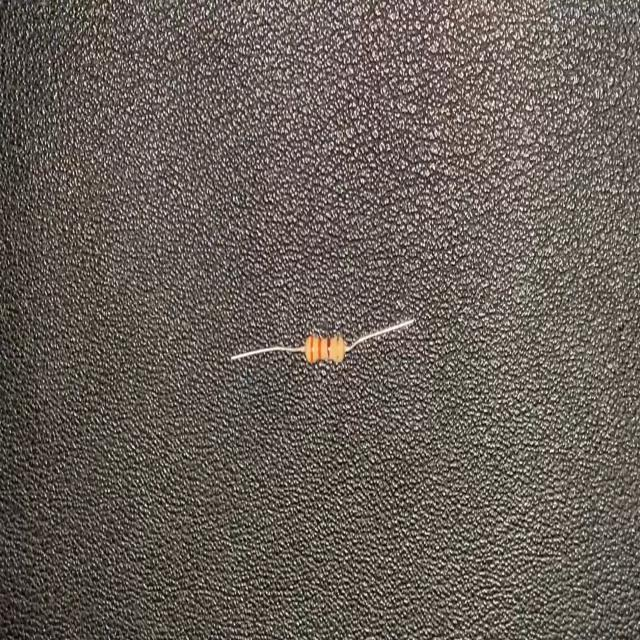faded: (334, 329, 342, 365)
resistor: (225, 298, 418, 374)
